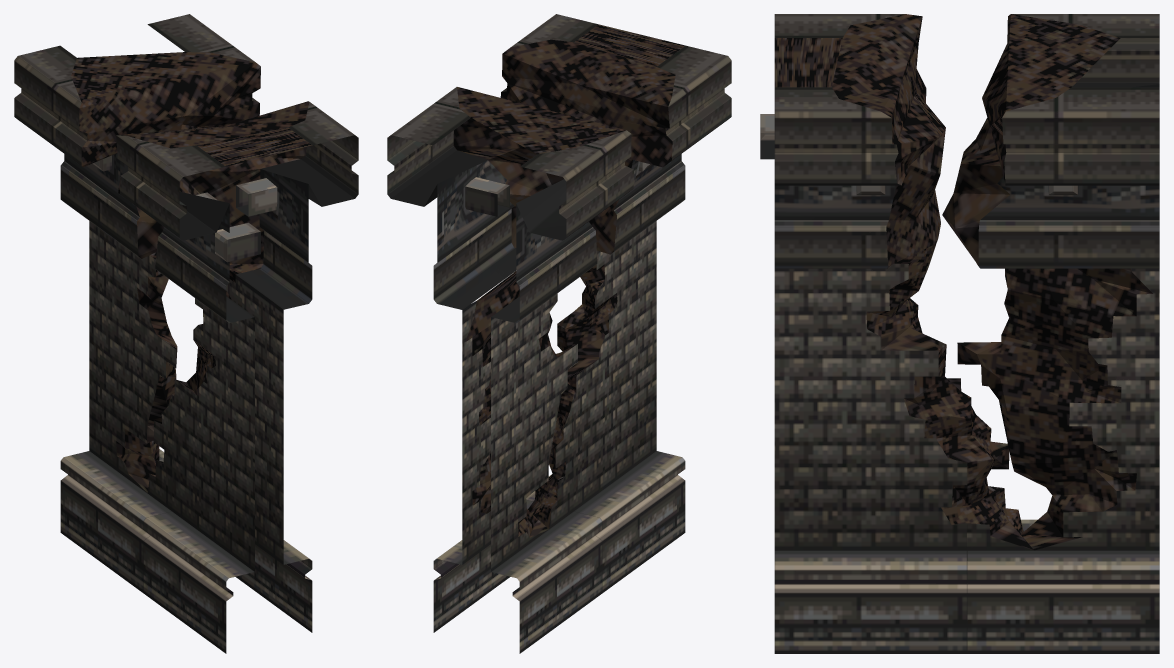
The model's file is EnvMdrMD_Castle_A_Wall_A_Debris_A_Unique_A.FBX.
3 views of the same model, side by side, from view 1: azimuth 30°, elevation 25°; view 2: azimuth 150°, elevation 25°; view 3: azimuth 270°, elevation 25° (orthographic). The views are drawn at different scales.
Visible parts, largest first — view 1: EnvMdrMD_Castle_A_Wall_A_Debris_A_Unique_A; view 2: EnvMdrMD_Castle_A_Wall_A_Debris_A_Unique_A; view 3: EnvMdrMD_Castle_A_Wall_A_Debris_A_Unique_A.
Boxes of the visible parts, x1=… form: EnvMdrMD_Castle_A_Wall_A_Debris_A_Unique_A: x1=14, y1=14, x2=358, y2=653; EnvMdrMD_Castle_A_Wall_A_Debris_A_Unique_A: x1=387, y1=14, x2=731, y2=653; EnvMdrMD_Castle_A_Wall_A_Debris_A_Unique_A: x1=760, y1=14, x2=1159, y2=653.
Size of the model in its own units: 250 by 650 by 415.
Materials: 1 (1 with a texture image).
